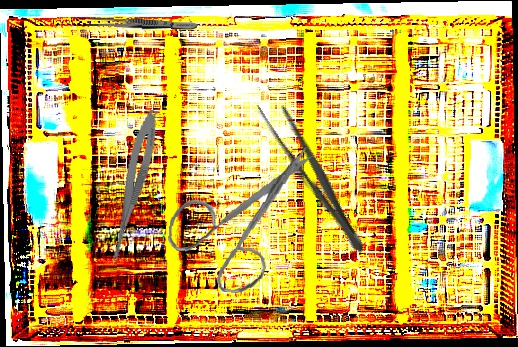Dressing Forceps: (252, 92, 376, 260), (87, 16, 198, 32)
Iris Scissors: (163, 131, 316, 300)
Micro Scissor: (105, 107, 163, 271)
